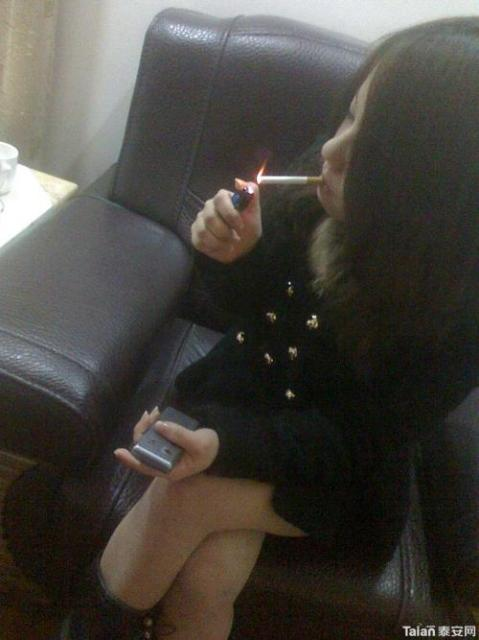SafeDriving: (390, 601, 478, 640)
Smoking: (256, 166, 326, 194)
